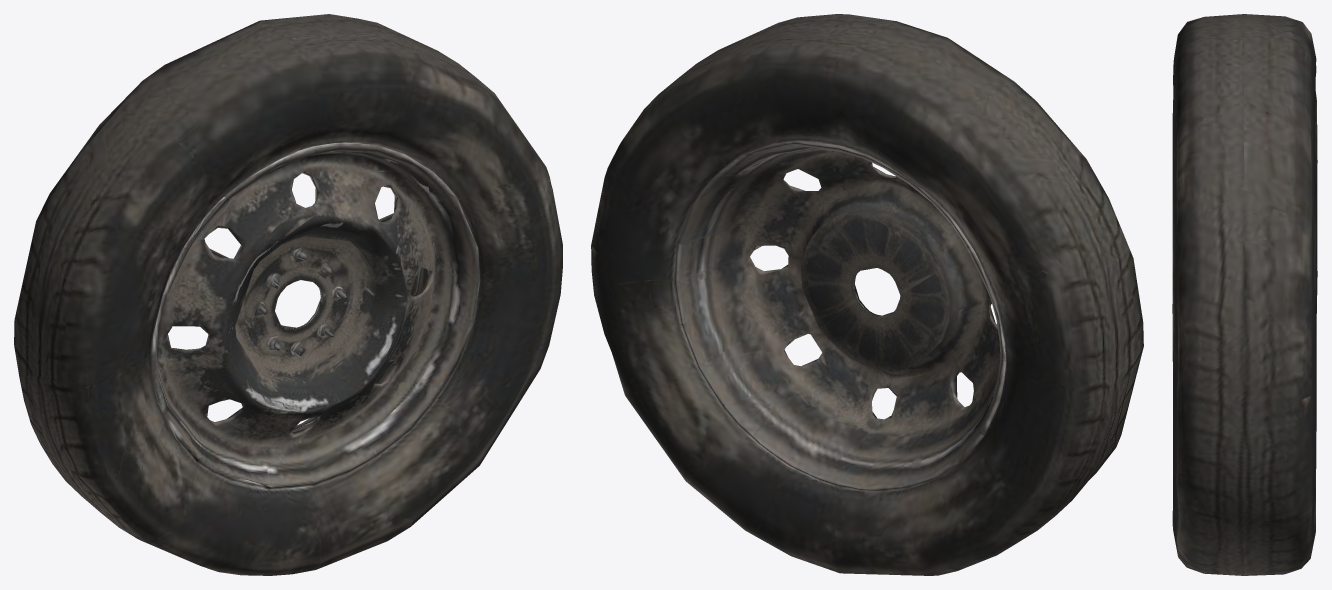
Rendered from wheel_car.glb.
The picture shows the model from 3 angles, left to right: view 1: azimuth 30°, elevation 25°; view 2: azimuth 150°, elevation 25°; view 3: azimuth 270°, elevation 25°; orthographic projection. The views are drawn at different scales.
Visible parts, largest first — view 1: wheel_car; view 2: wheel_car; view 3: wheel_car.
Boxes of the visible parts, bbox=[...] form: wheel_car: bbox=[14, 14, 562, 575]; wheel_car: bbox=[591, 14, 1143, 575]; wheel_car: bbox=[1172, 14, 1317, 575].
Bounding box in the file's own units: 1 × 0.999 × 0.2573.
Materials: 1 (1 with a texture image).
